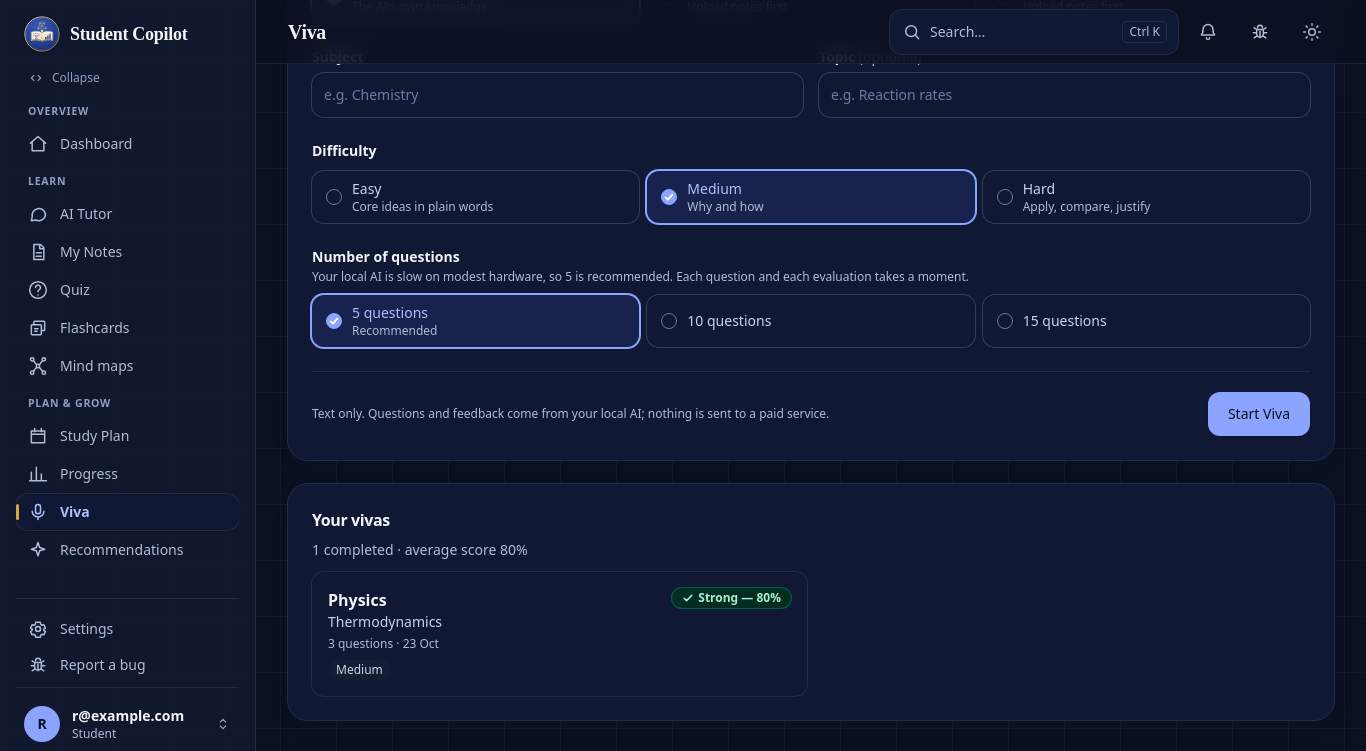
Scenario: a complete viva › a finished viva can be opened again from history, and its score matches
(page scrolled)
Click the link "Physics".
click(357, 600)  # box [312, 572, 807, 696]
(page scrolled)
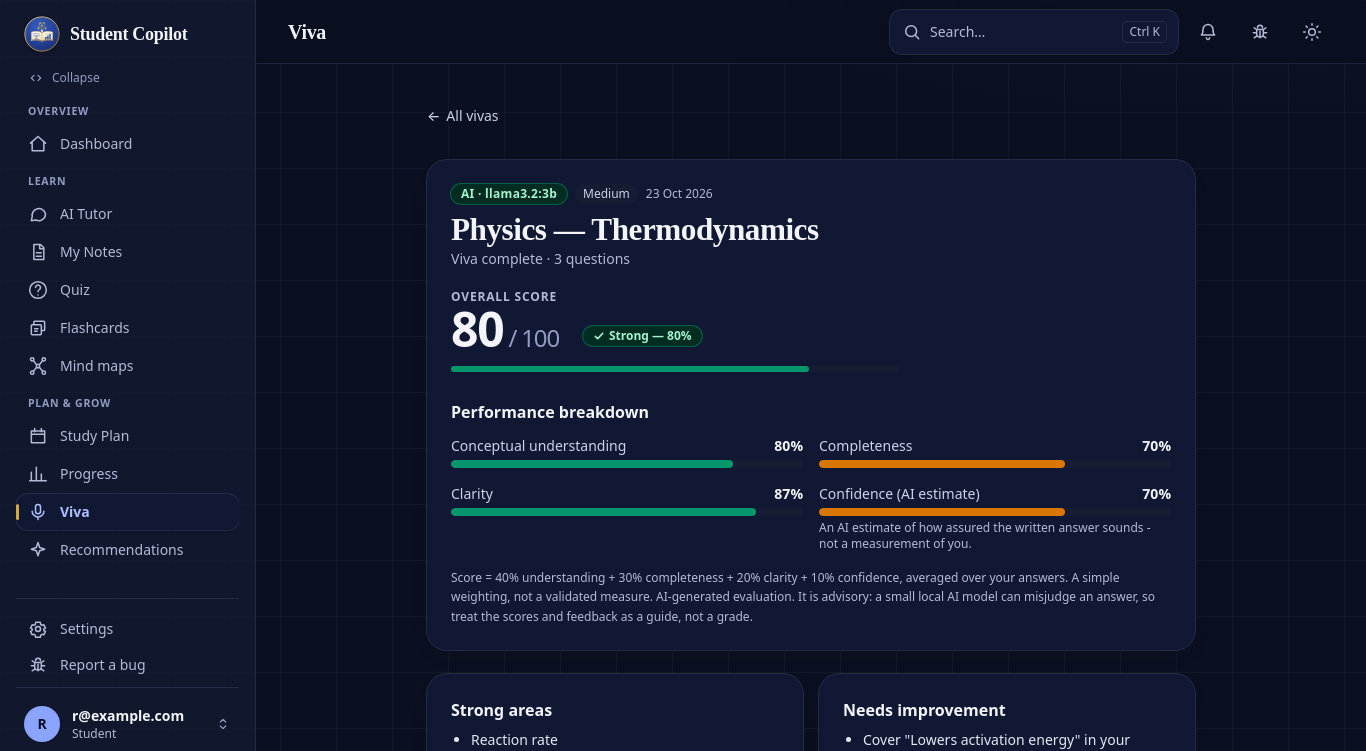
Now the text "Overall score" is shown, box [451, 289, 559, 305]
Now the element named "Overall score 80 out of 100" is shown, box [451, 305, 559, 354]
